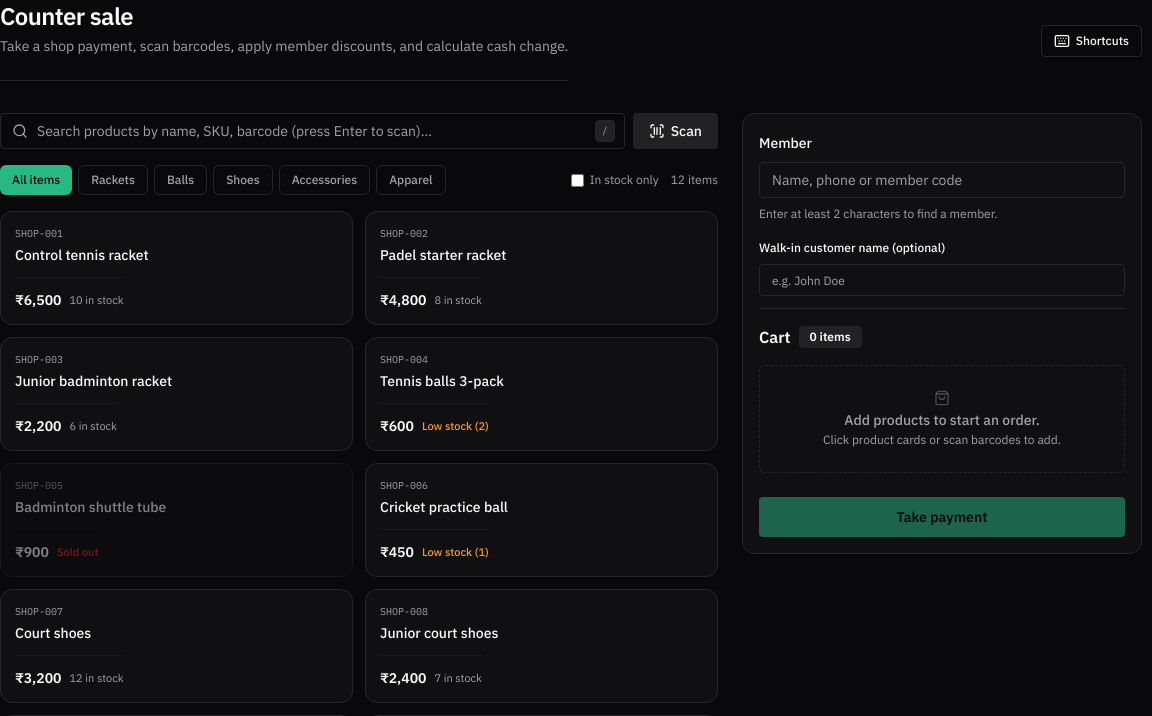
Counter sale POS (Issue #71) › calculates remaining balance when partial cash tender is entered for split payment
Click the button "SHOP-001 Control tennis racket ₹6,500 10 in stock".
click(39, 234)  # box [0,211,353,325]
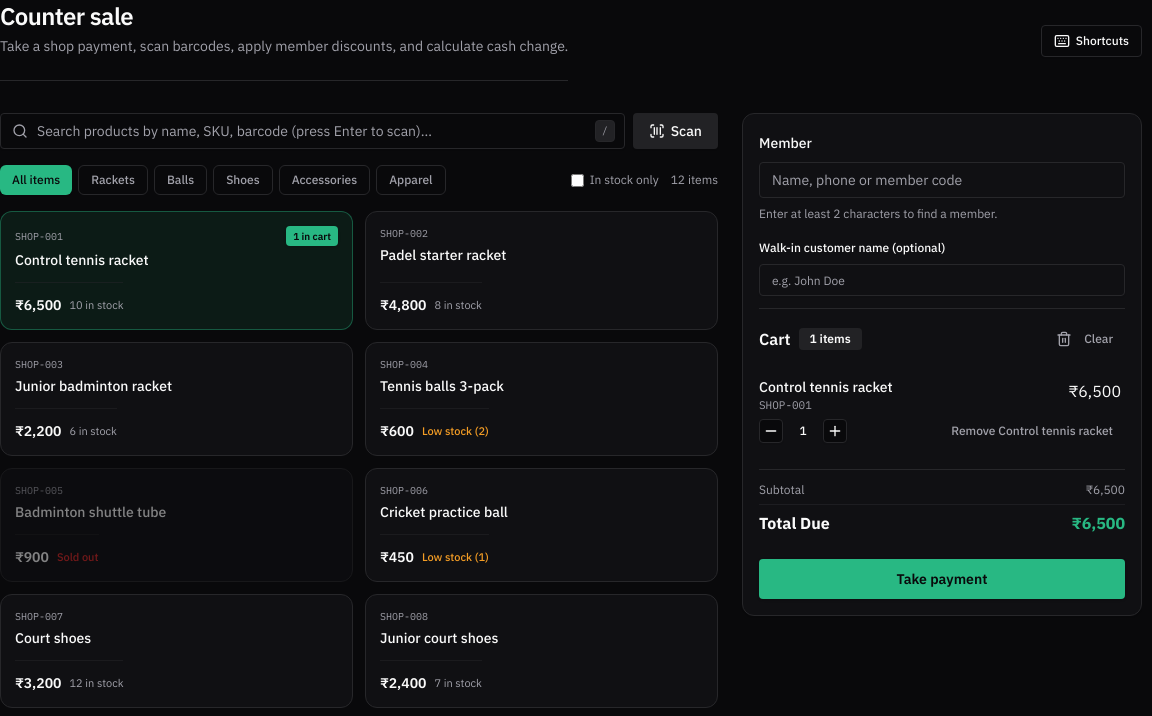
Click the button "Take payment".
click(942, 579)  # box [759,559,1125,599]
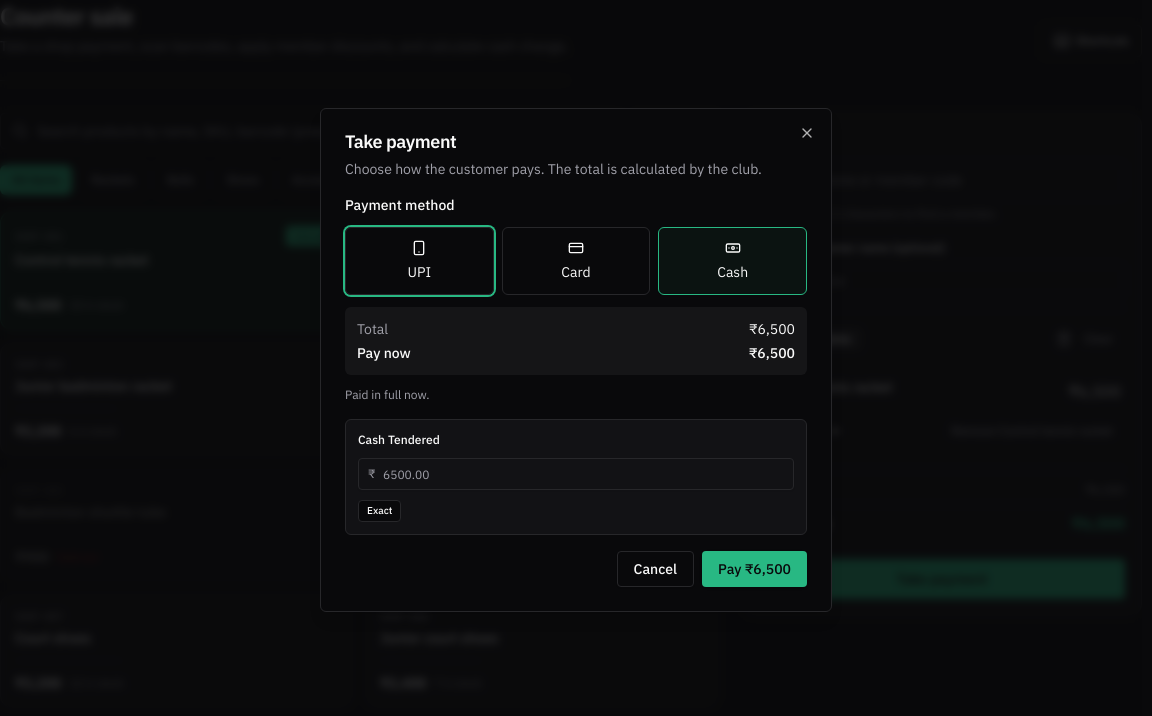
Type "2000" into the number field with placeholder "6500.00".
click(576, 474); type("2000")  # box [358,458,794,490]
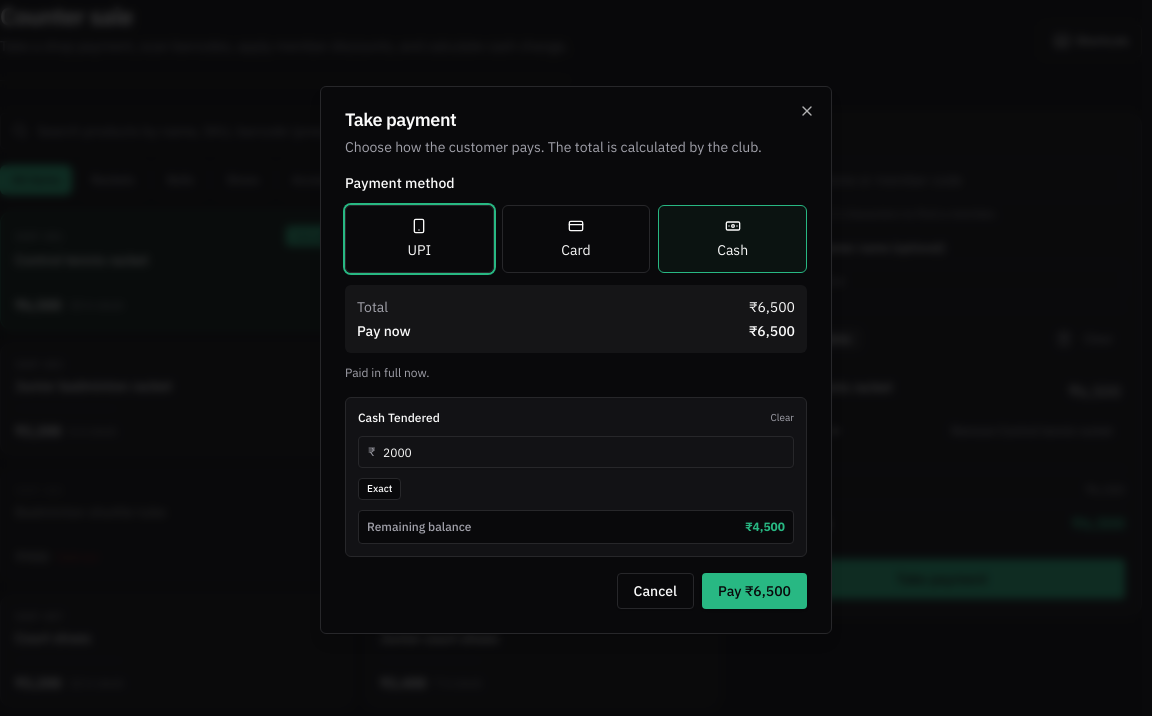
Result: the text "Remaining balance" is shown at [367,519,472,535]
Result: the text "₹4,500" is shown at [745,519,785,534]
